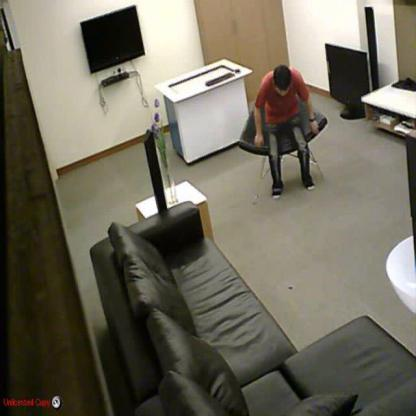Person: (253, 64, 320, 199)
